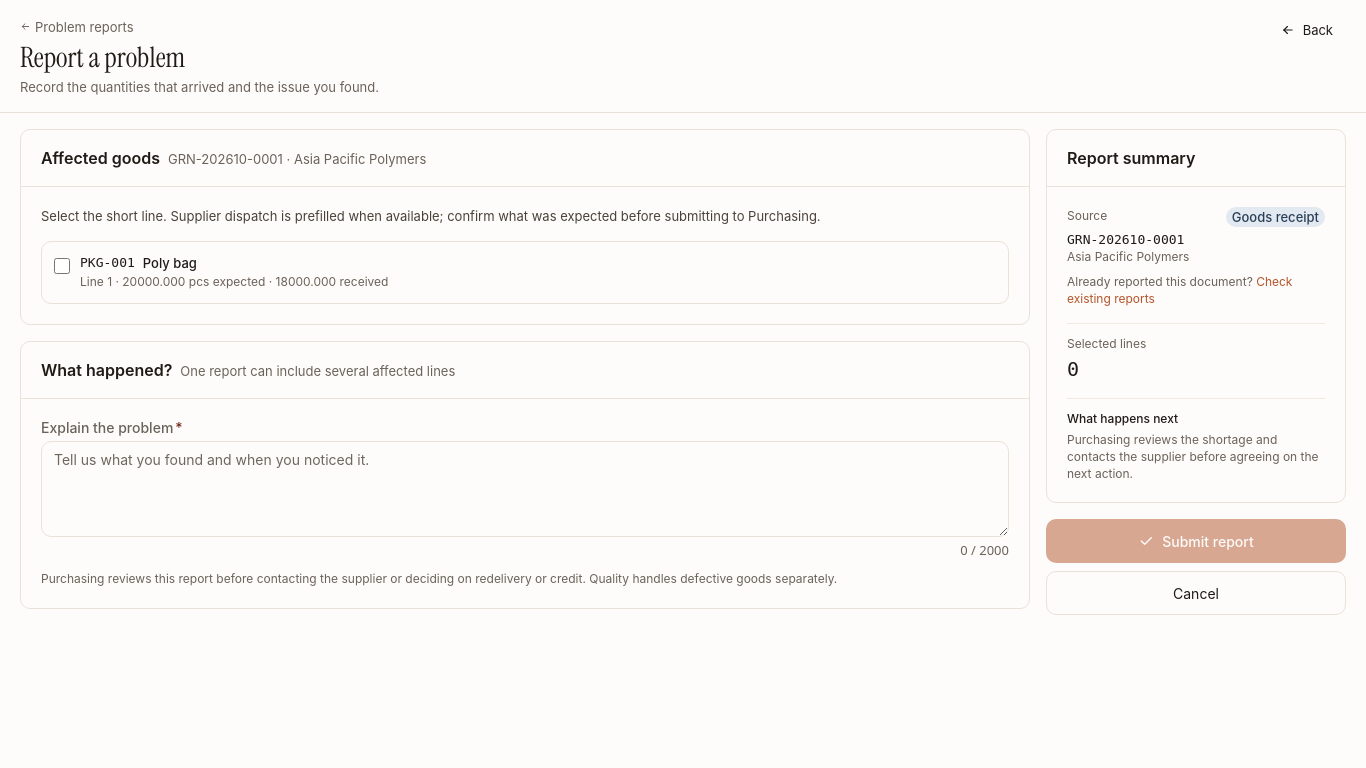
Test: lets warehouse report the prefilled GRN shortage without settlement controls
Expected: the text "GRN-202610-0001" is shown, [1067,232,1184,247]
Click the checkbox labelled "PKG-001". click: click(62, 266)
box: [54,258,70,274]
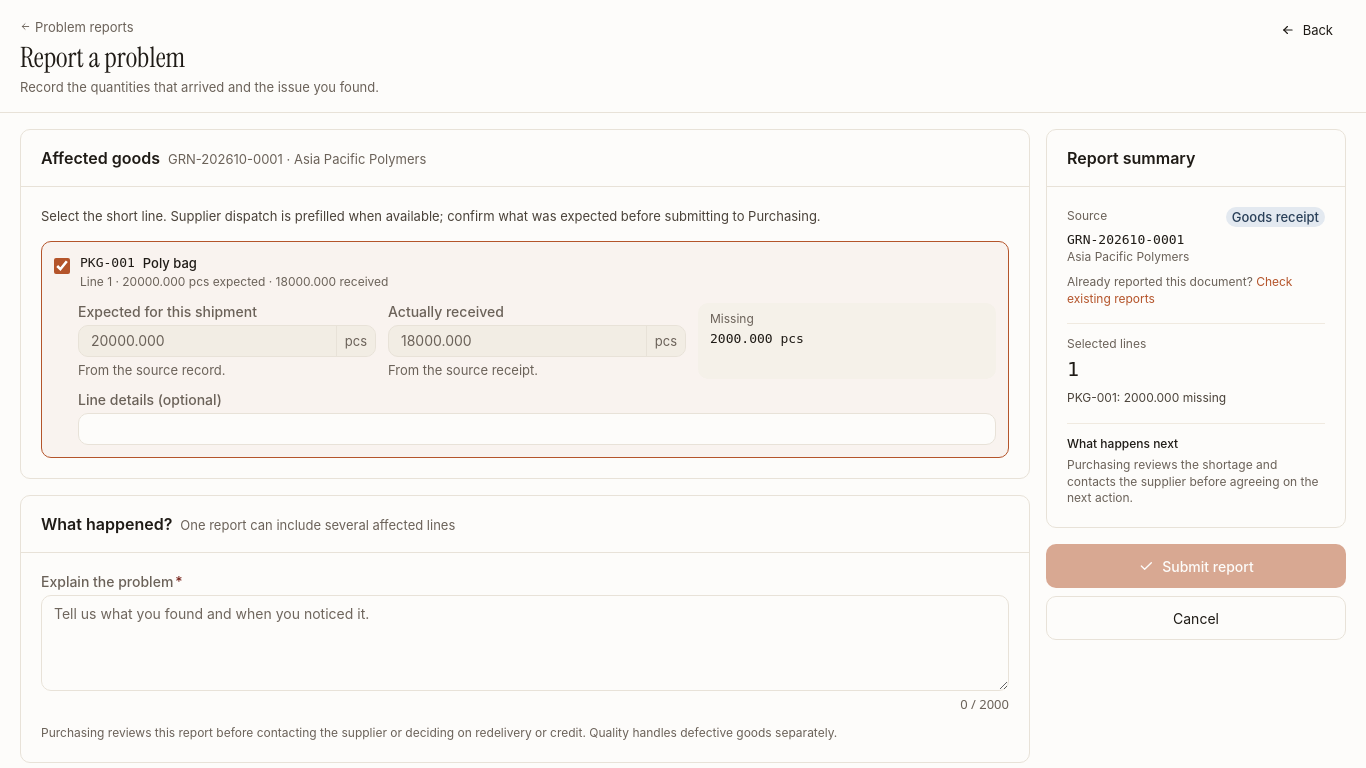
Expected: the field labelled "Expected for this shipment" holds "20000.000", [79,326,336,356]
Expected: the field labelled "Actually received" holds "18000.000", [389,326,646,356]
Expected: the text "2000.000 pcs" is shown, [710,332,804,346]
